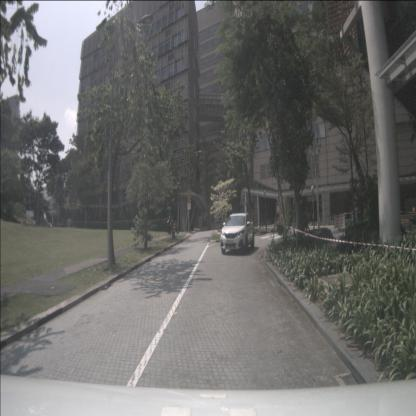vehicle-car: (220, 213, 255, 254)
vehicle-motorcycle: (167, 216, 179, 236)
vehicle-truck: (207, 219, 227, 231)
